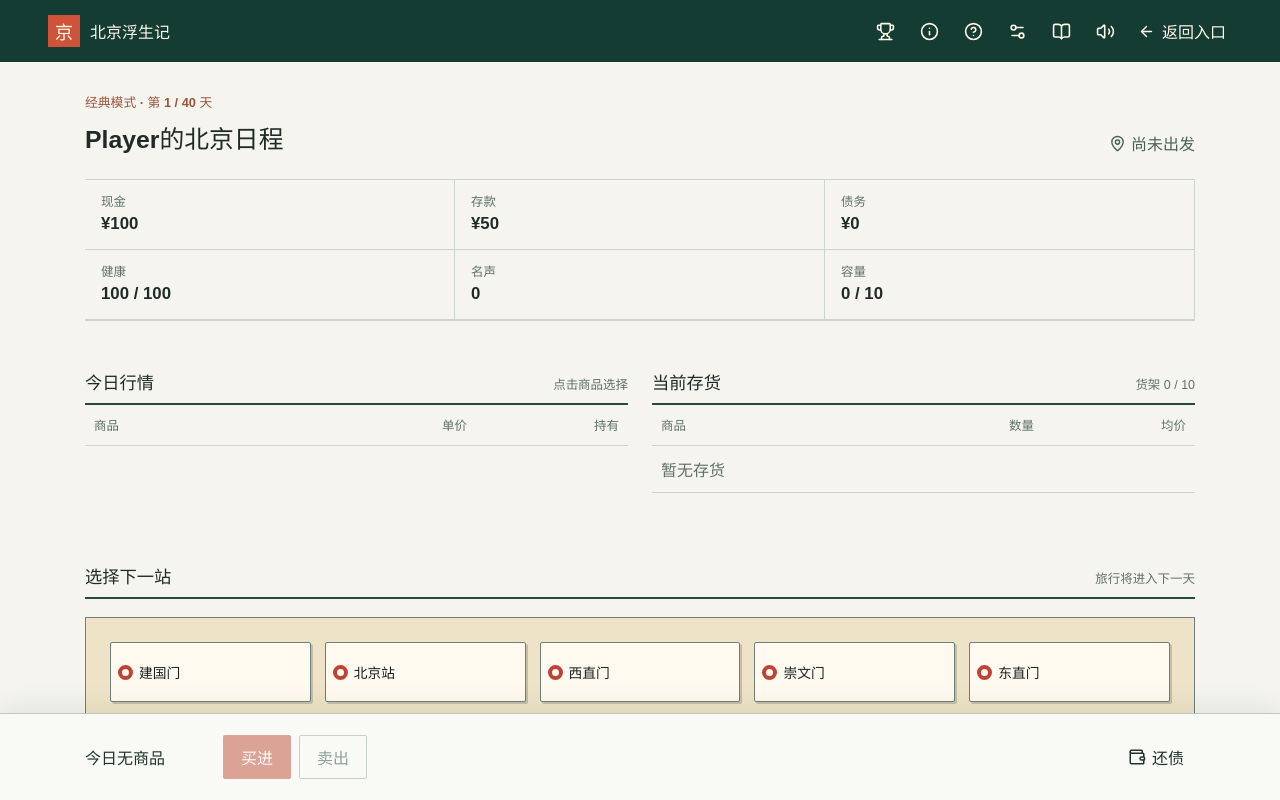
it: auxiliary views › shows separate ranked lists for both modes
Click the button named "排行榜": (886,31) [868,13,904,49]
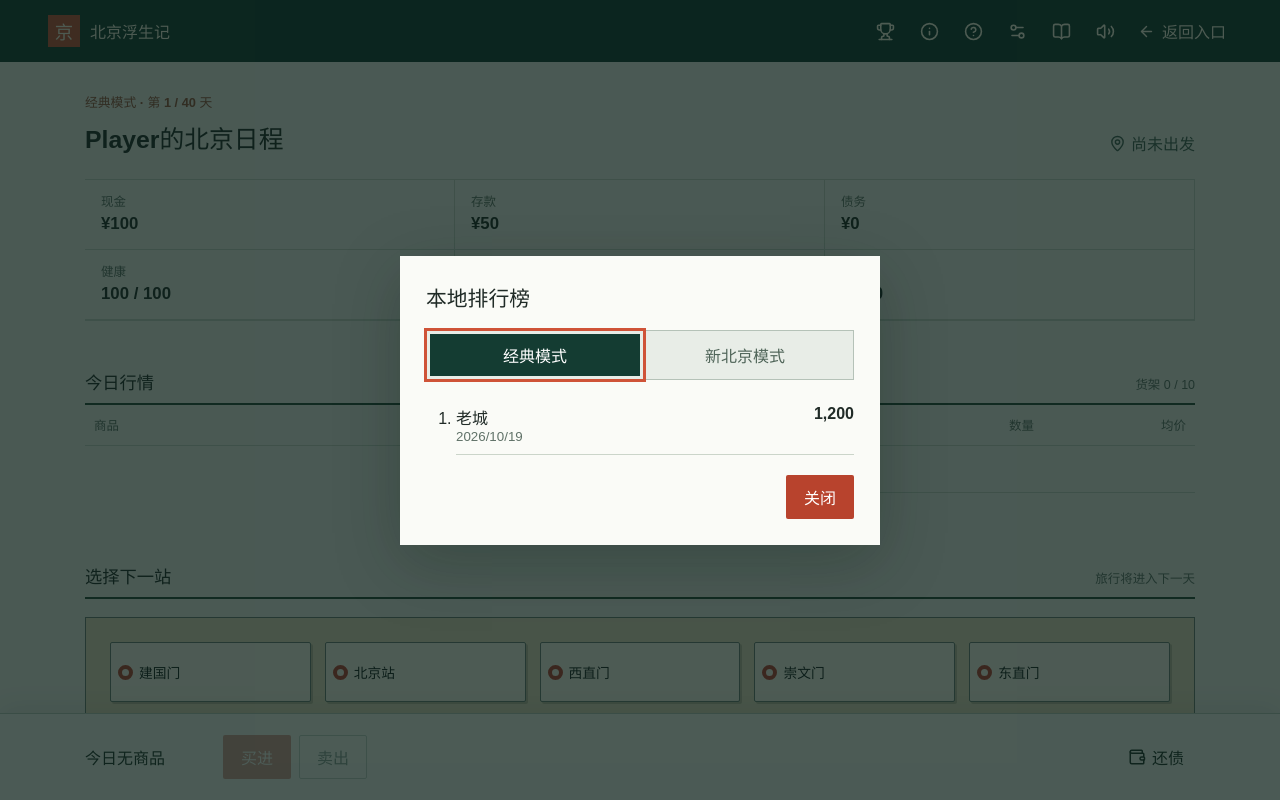
expect the text "新城" is not shown: met
expect the text "老城" is shown: met, box [456,410,488,426]
Click the tab "新北京模式": (745,354) [640,334,850,376]
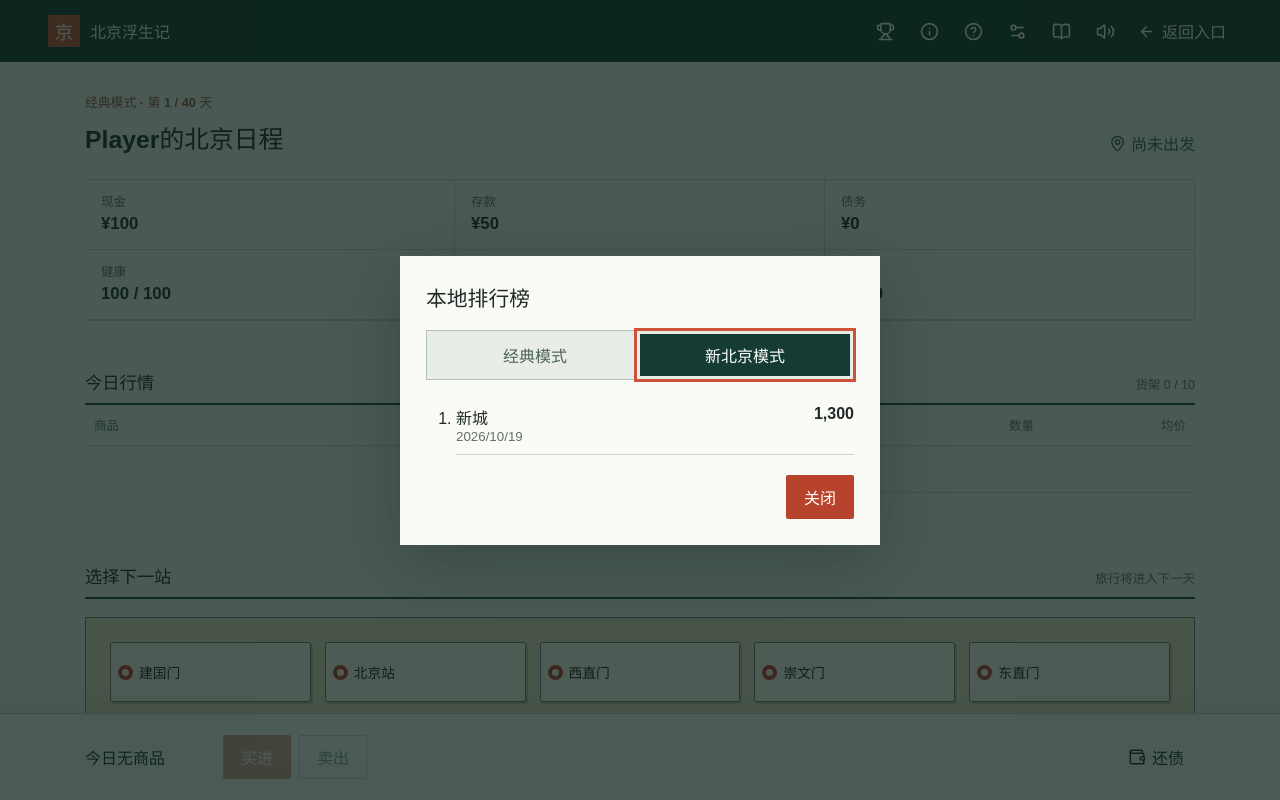
expect the text "新城" is shown: met, box [456,410,488,426]
Press Arrowleft
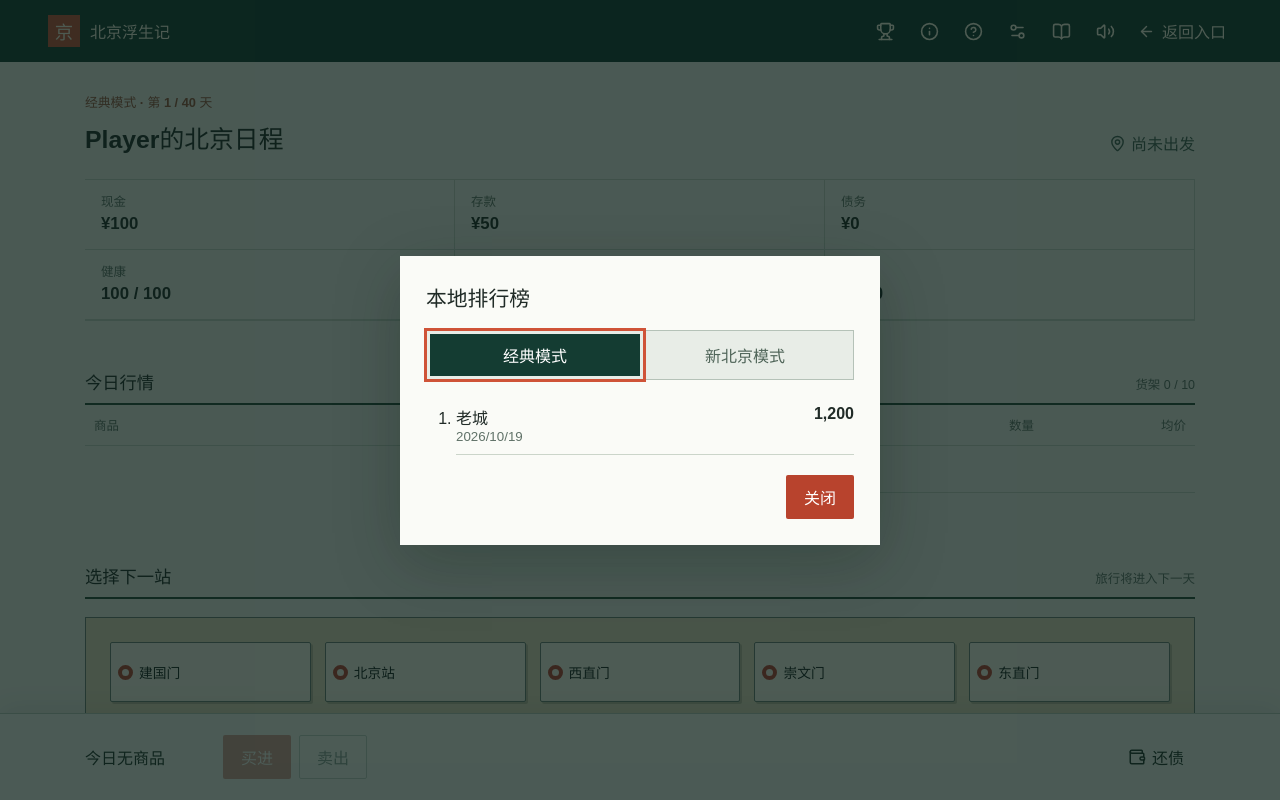
expect the text "老城" is shown: met, box [456,410,488,426]
